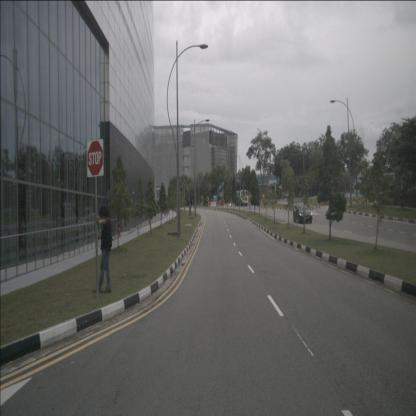human-pedestrian-adult: (93, 206, 112, 294)
movable_object-barrier: (210, 202, 216, 206), (216, 202, 222, 206), (208, 202, 211, 207)
vehicle-bus-rigid: (236, 190, 249, 207)
vehicle-car: (293, 202, 313, 224)
